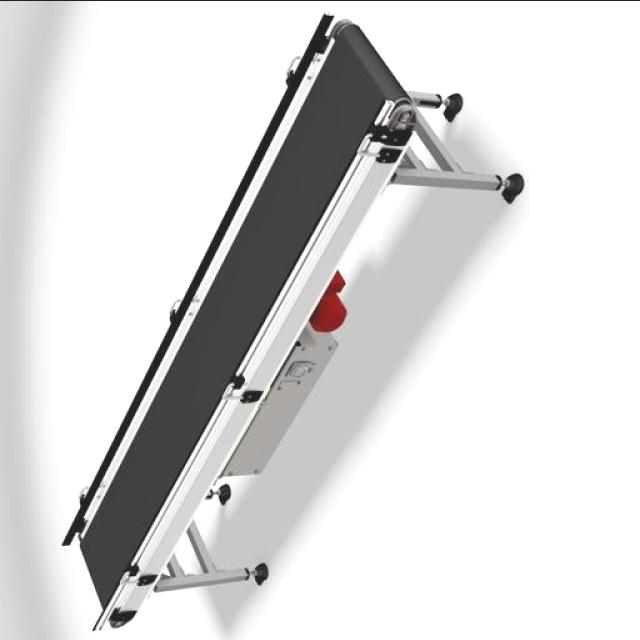conveyor: (73, 17, 395, 622)
